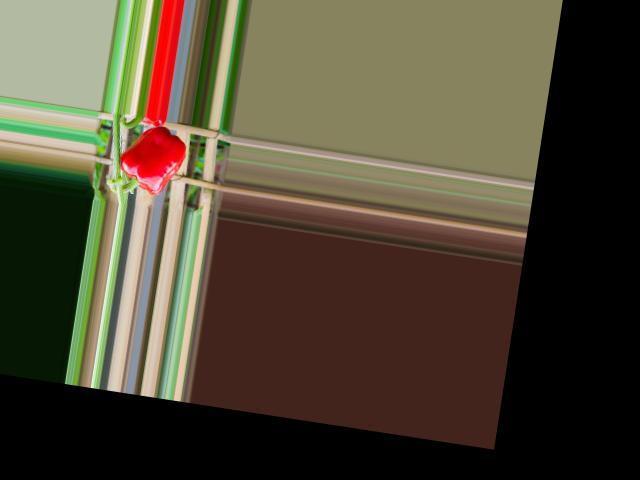bell_pepper: (110, 121, 193, 199)
